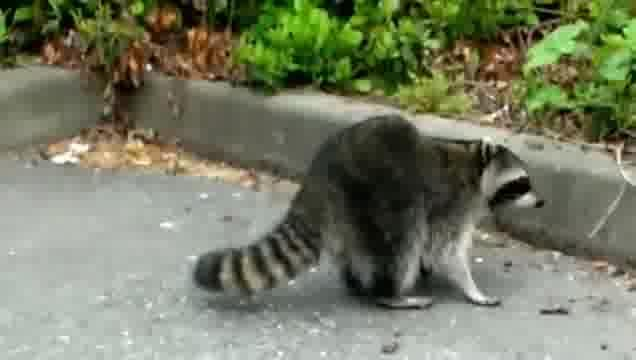raccoon: (190, 109, 545, 312)
